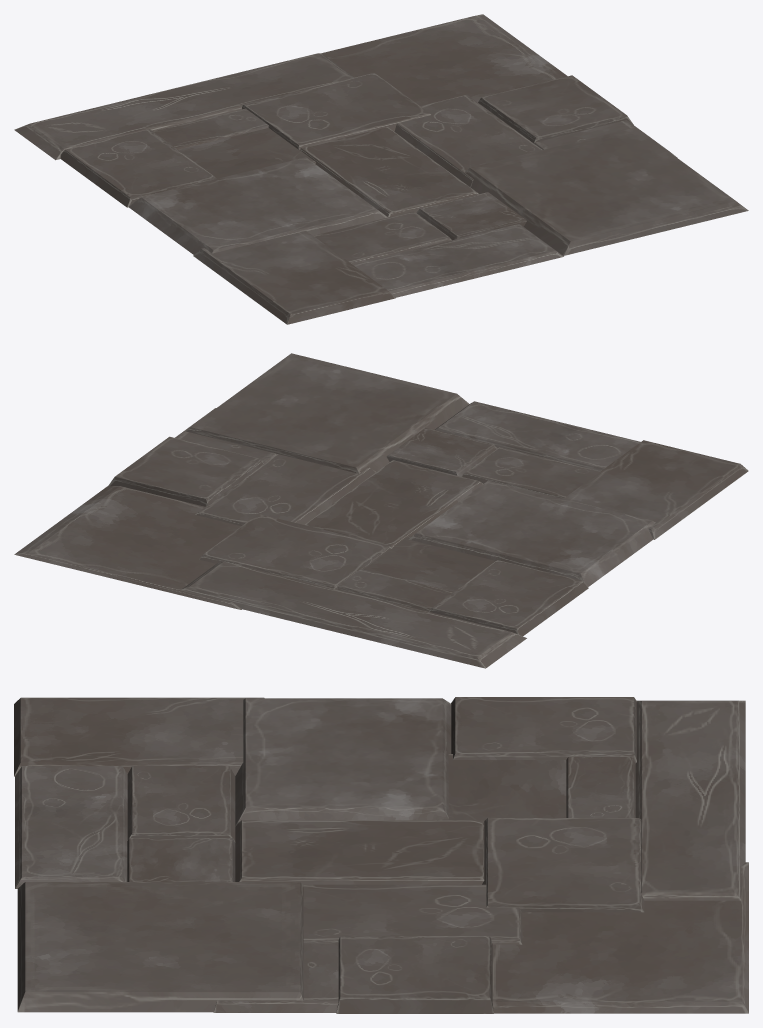
Rendered from Stone_Floor_Var1.fbx.
3 views of the same model, one above another, from view 1: azimuth 30°, elevation 25°; view 2: azimuth 150°, elevation 25°; view 3: azimuth 270°, elevation 25° (orthographic). The views are drawn at different scales.
Parts seen in each view (by area): view 1: StoneTile_Row3_Col2__1_; view 2: StoneTile_Row3_Col2__1_; view 3: StoneTile_Row3_Col2__1_.
Boxes of the visible parts, <box> form: StoneTile_Row3_Col2__1_: <box>14,14,748,324</box>; StoneTile_Row3_Col2__1_: <box>14,353,748,668</box>; StoneTile_Row3_Col2__1_: <box>14,697,748,1013</box>.
Bounding box in the file's own units: 2.04 × 0.0428 × 2.03.
